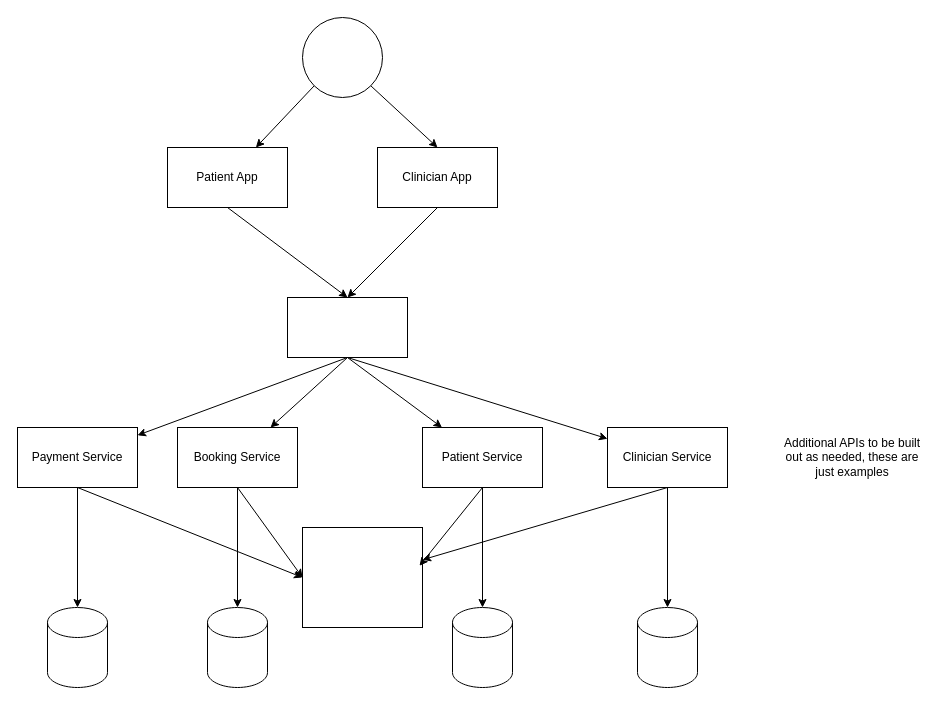
Image size: 945x705. Some labels were removed from this diagram. The centre of each missing label's shape, as x and y in pixels:
"Message Broker for event communication RabitMQ / MassTransit / Service Bus?" belongs at [362,577].
"Reverse Proxy YARP" belongs at [347,327].
"Website" belongs at [342,57].
